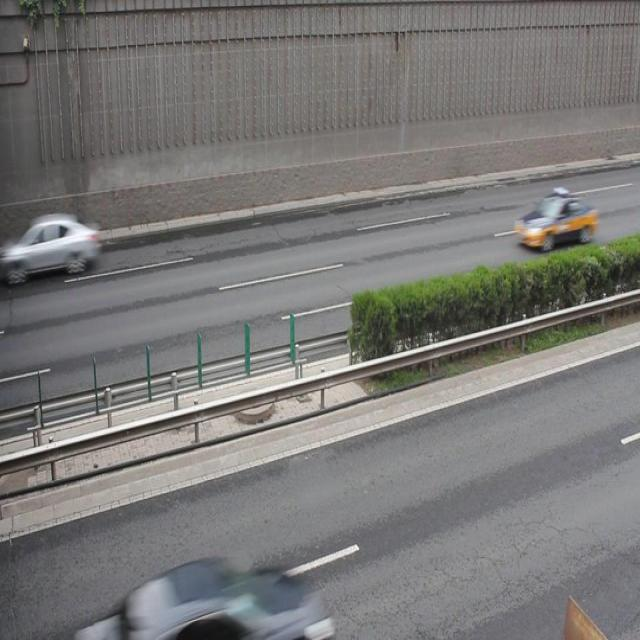car: (122, 558, 340, 640), (1, 213, 102, 279), (512, 188, 597, 249)
